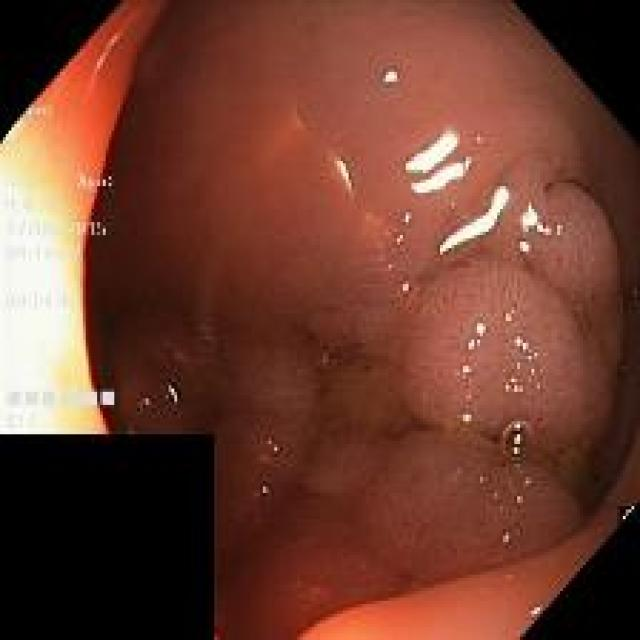Polyps: (0, 3, 640, 639), (404, 257, 608, 461), (315, 431, 582, 585), (484, 157, 625, 386)
